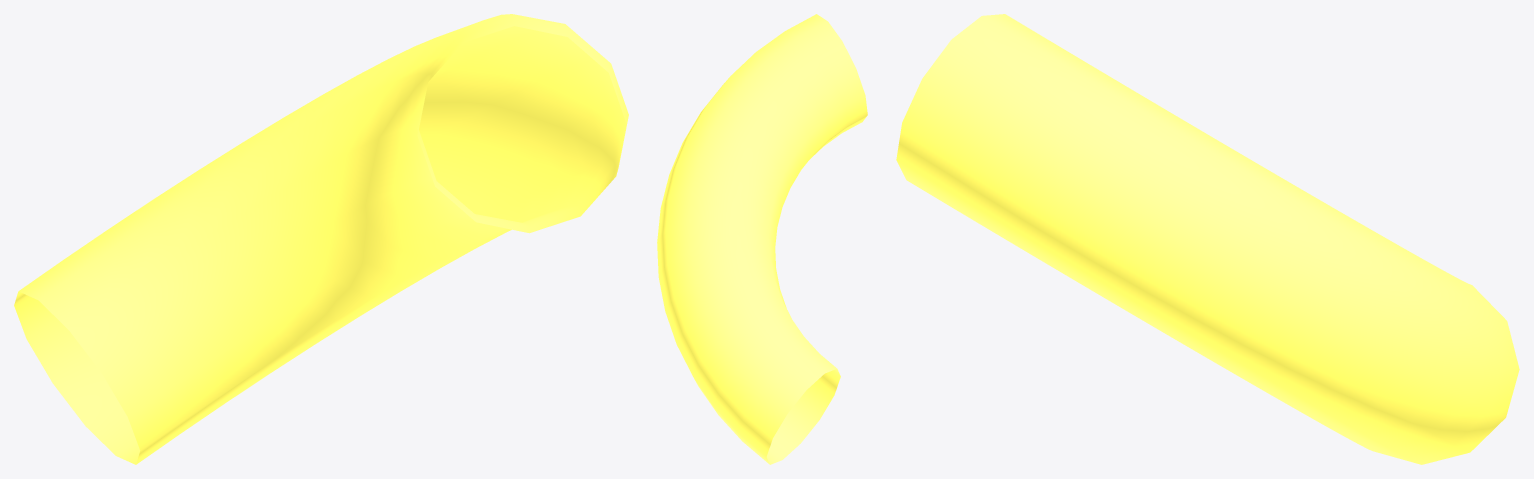
3 views of the same model, side by side, from view 1: azimuth 30°, elevation 25°; view 2: azimuth 150°, elevation 25°; view 3: azimuth 270°, elevation 25° (orthographic). The views are drawn at different scales.
Parts seen in each view (by area): view 1: Torus.004; view 2: Torus.004; view 3: Torus.004.
Part boxes in pixels (box(x1,y1,x2,y2)): Torus.004: box(14, 14, 628, 464); Torus.004: box(657, 14, 867, 464); Torus.004: box(896, 14, 1519, 464).
Size of the model in its own units: 0.9292 by 1.3 by 1.41.
